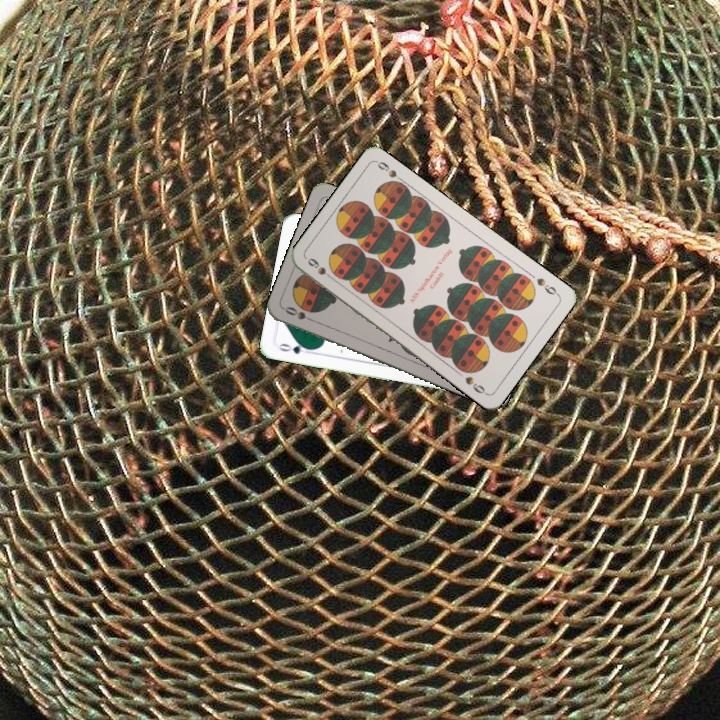GO: (274, 339, 315, 357)
S9: (303, 254, 338, 284), (532, 273, 561, 298)
SO: (280, 302, 319, 325)
